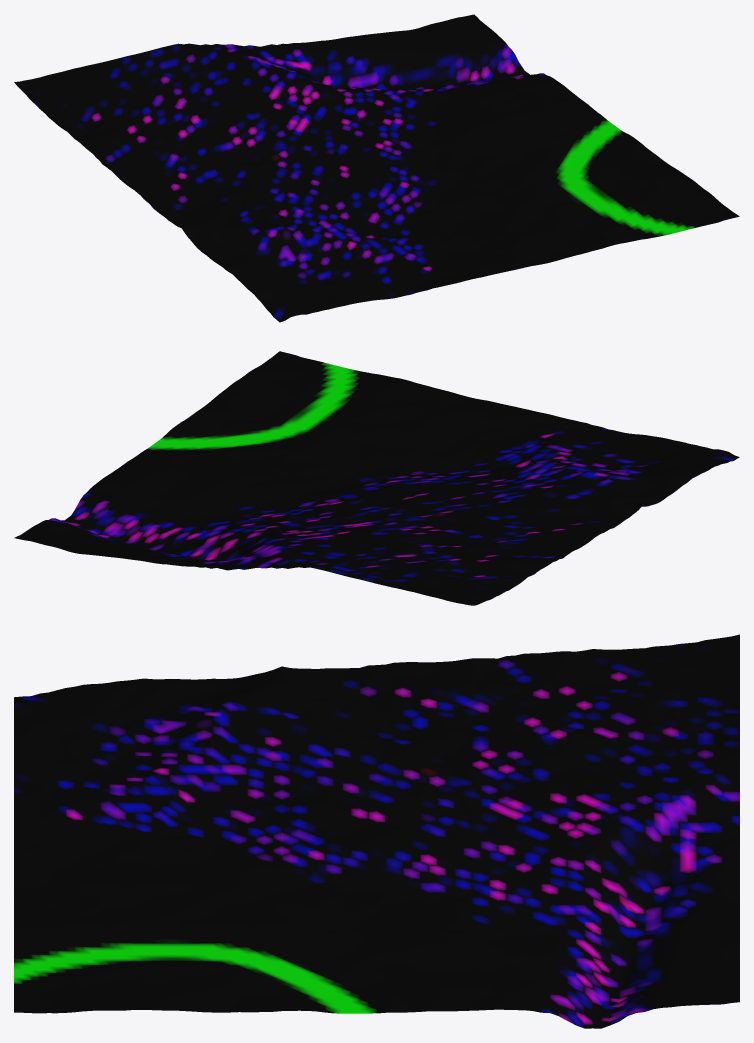
Rendered from SM_AsirMountains_Terrain_1_0.fbx.
3 renders of one model, top to bottom at view 1: azimuth 30°, elevation 25°; view 2: azimuth 150°, elevation 25°; view 3: azimuth 270°, elevation 25°, orthographic. The views are drawn at different scales.
Parts seen in each view (by area): view 1: SM_AsirMountains_Terrain_1_0; view 2: SM_AsirMountains_Terrain_1_0; view 3: SM_AsirMountains_Terrain_1_0.
Boxes of the visible parts, x1,y1,x2,y2 form: SM_AsirMountains_Terrain_1_0: [14, 14, 739, 322]; SM_AsirMountains_Terrain_1_0: [14, 351, 739, 605]; SM_AsirMountains_Terrain_1_0: [14, 634, 739, 1028].
Bounding box in the file's own units: 50400 × 6923 × 50400.
